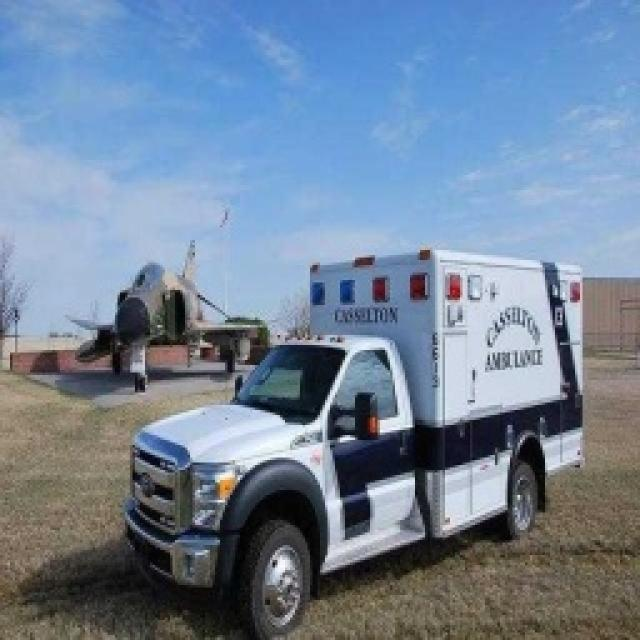emergency-vehicle: (113, 245, 582, 620)
